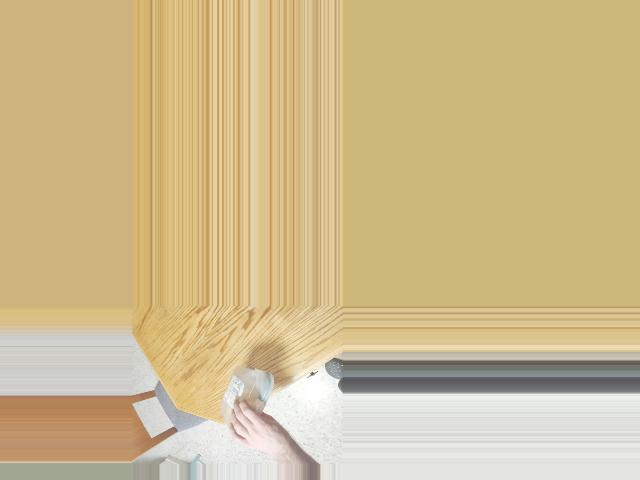cheese: (225, 373, 266, 425)
